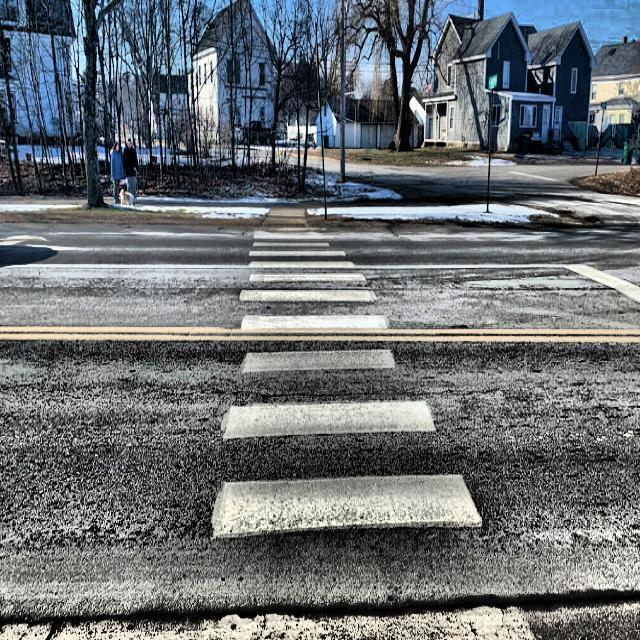crosswalk: (207, 225, 497, 565)
